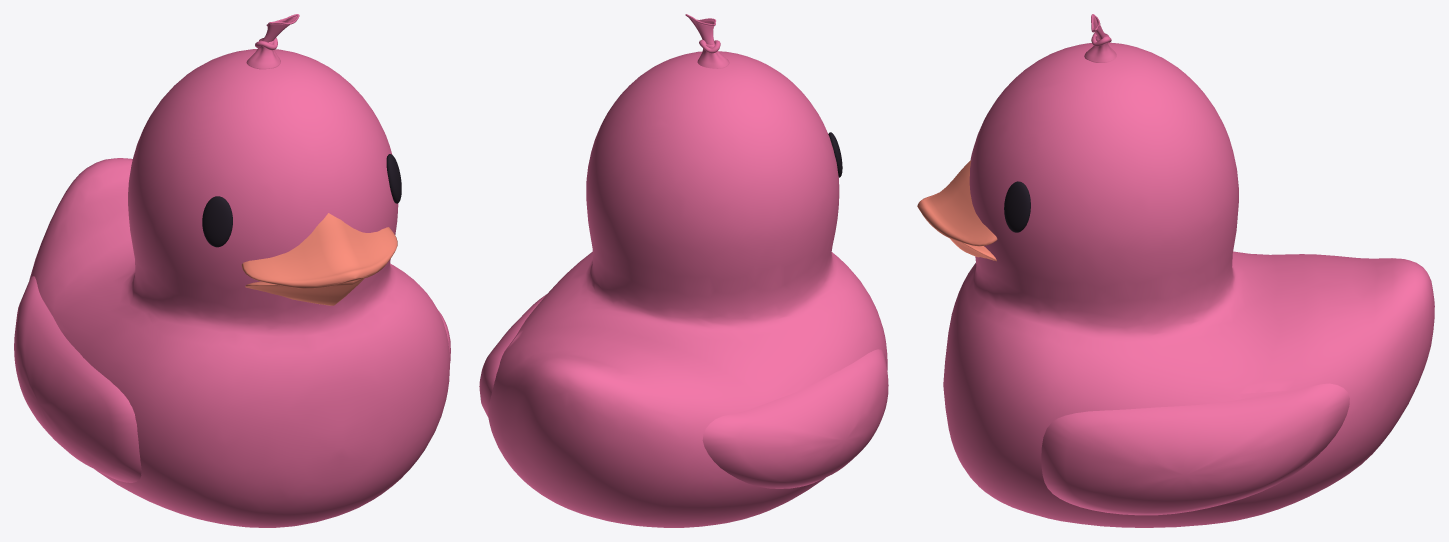
File: RubberDuck_Balloon.fbx
The picture shows the model from 3 angles, left to right: view 1: azimuth 30°, elevation 25°; view 2: azimuth 150°, elevation 25°; view 3: azimuth 270°, elevation 25°; orthographic projection. The views are drawn at different scales.
Visible parts, largest first — view 1: RubberDuck, Balloon_Tied_Neck; view 2: RubberDuck, Balloon_Tied_Neck; view 3: RubberDuck, Balloon_Tied_Neck.
Boxes of the visible parts, x1,y1,x2,y2 form: RubberDuck: (14, 48, 450, 527); Balloon_Tied_Neck: (246, 14, 299, 69); RubberDuck: (479, 51, 888, 527); Balloon_Tied_Neck: (685, 14, 729, 68); RubberDuck: (917, 42, 1434, 527); Balloon_Tied_Neck: (1084, 14, 1116, 62).
Bounding box in the file's own units: 0.1748 × 0.2187 × 0.2117.
Materials: 5 (2 with a texture image).
